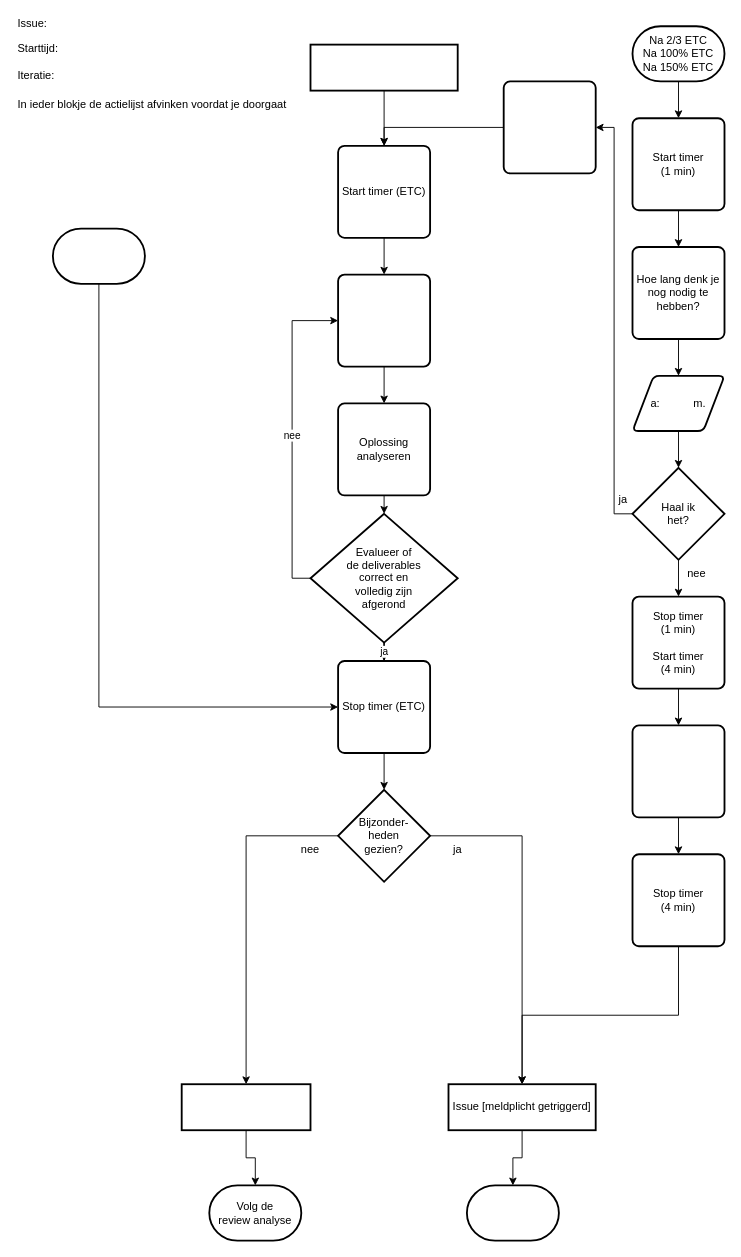
The diagram is 741 pixels wide and 1257 high, and some of its shapes have lost their labels. The shapes that lost their labels are listed below. From the top down, each one's box as (x1, y1, x2, y2) in pixels, then its label:
(309, 43, 458, 91): Issue [aanpak goedgekeurd]
(502, 80, 596, 174): Stop timer (1 min)
(52, 227, 145, 284): Significant inzicht gekregen
(337, 273, 431, 367): Intake verwerken
(631, 724, 725, 818): Hoe heeft het zo lang kunnen duren?
(180, 1083, 311, 1131): Issue [geanalyseerd]
(466, 1184, 559, 1241): Volg de meldplicht
